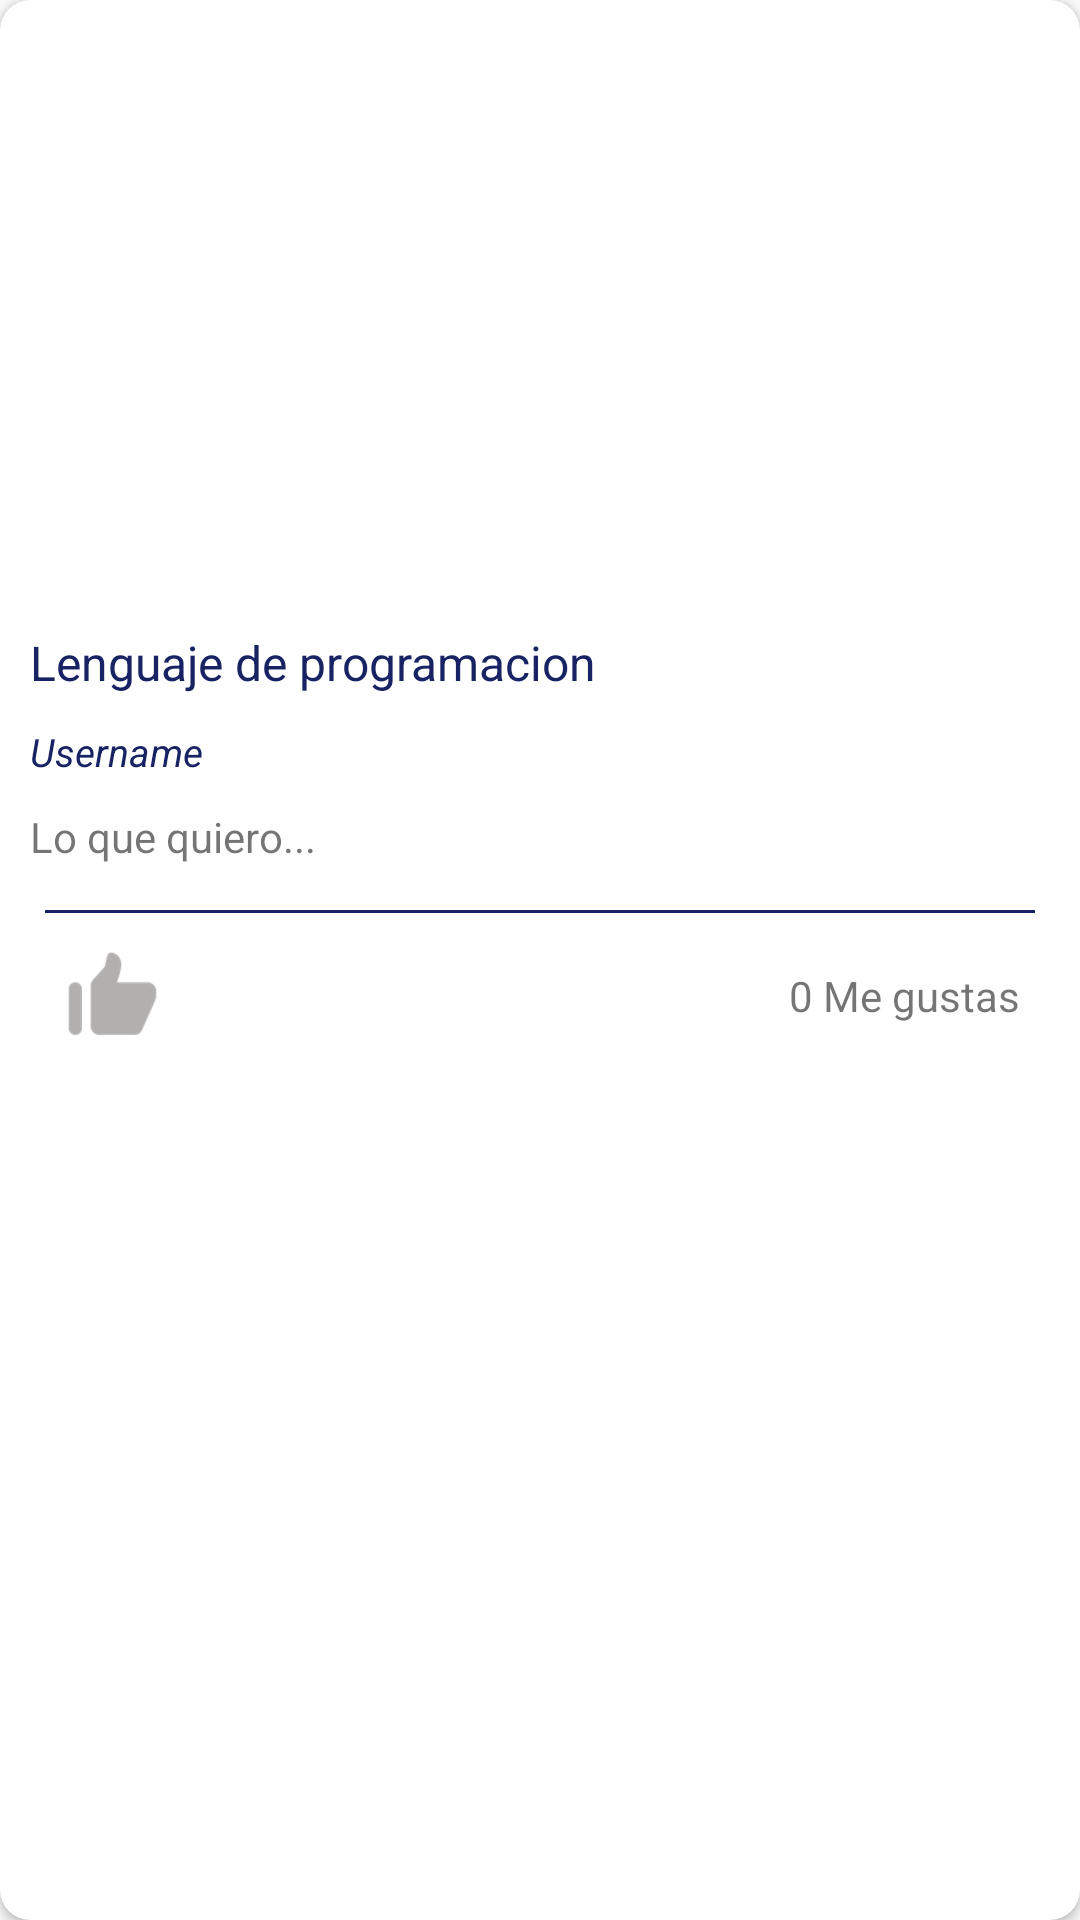

Point at icon controls on the screen. Image size 1080px×1920px, points as point (x, y).
like: point (112, 993)
